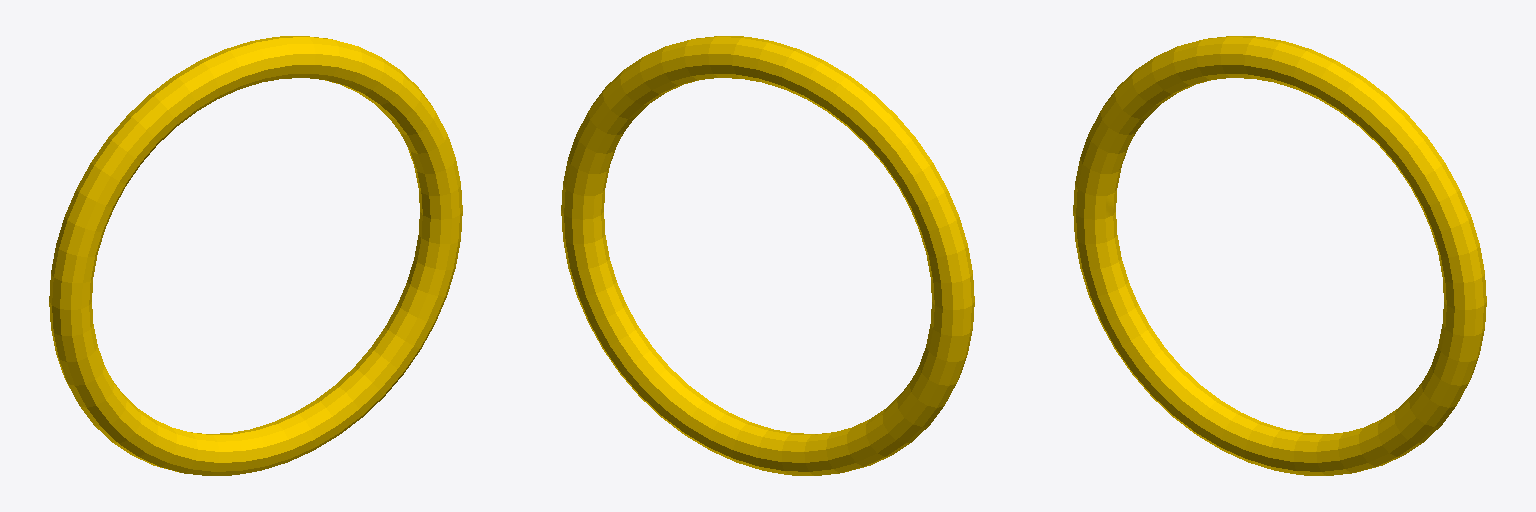
3 views of the same model, side by side, from view 1: azimuth 30°, elevation 25°; view 2: azimuth 150°, elevation 25°; view 3: azimuth 330°, elevation 25° (orthographic).
Parts seen in each view (by area): view 1: wheel; view 2: wheel; view 3: wheel.
Boxes of the visible parts, x1,y1,x2,y2 form: wheel: [49, 36, 462, 475]; wheel: [561, 36, 974, 475]; wheel: [1073, 36, 1486, 475].
Size of the model in its own units: 2.2 by 2.2 by 0.2.
1 materials, 1 textured.